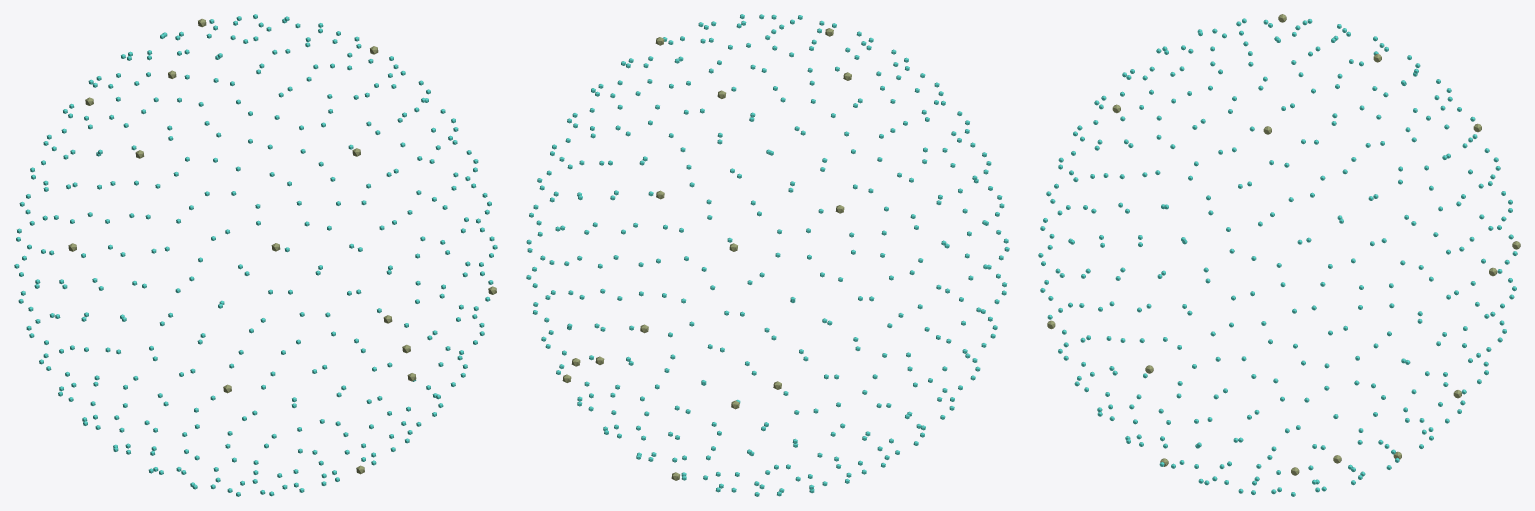
The model's file is globe-lattice-high.glb.
3 renders of one model, left to right at view 1: azimuth 30°, elevation 25°; view 2: azimuth 150°, elevation 25°; view 3: azimuth 270°, elevation 25°, orthographic.
Parts seen in each view (by area): view 1: shell_04, shell_02, shell_00, shell_05, shell_01, shell_03; view 2: shell_04, shell_02, shell_00, shell_01, shell_05, shell_03; view 3: shell_02, shell_04, shell_00, shell_01, shell_05, shell_03.
Part boxes in pixels (x1,y1,x2,y2): shell_04: (84, 14, 435, 195); shell_02: (26, 33, 311, 354); shell_00: (318, 52, 497, 397); shell_05: (71, 318, 436, 496); shell_01: (14, 109, 199, 455); shell_03: (197, 159, 484, 477); shell_04: (590, 14, 945, 186); shell_02: (540, 156, 827, 476); shell_00: (526, 56, 706, 401); shell_01: (817, 111, 1009, 459); shell_05: (589, 310, 947, 496); shell_03: (706, 39, 999, 357); shell_02: (1428, 88, 1520, 431); shell_04: (1112, 14, 1440, 174); shell_00: (1115, 181, 1446, 481); shell_01: (1118, 36, 1442, 335); shell_05: (1108, 331, 1442, 496); shell_03: (1038, 91, 1129, 420).
Size of the model in its own units: 4.03 by 4.05 by 4.05.
